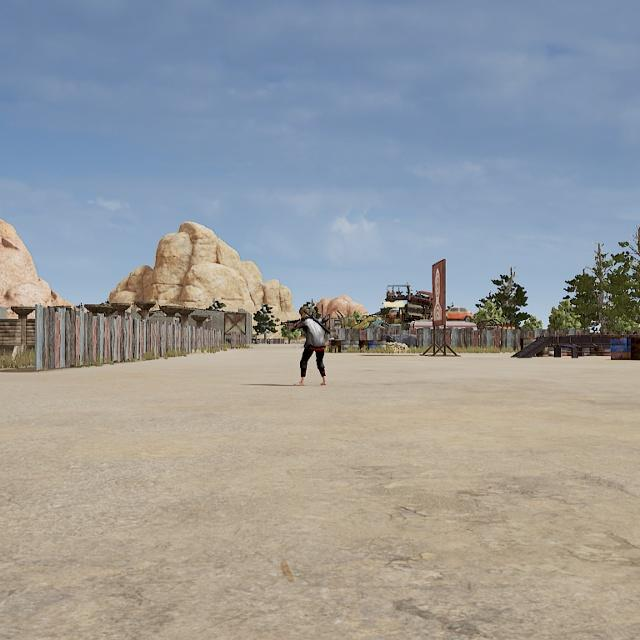head: (296, 303, 313, 321)
people: (294, 299, 332, 389)
